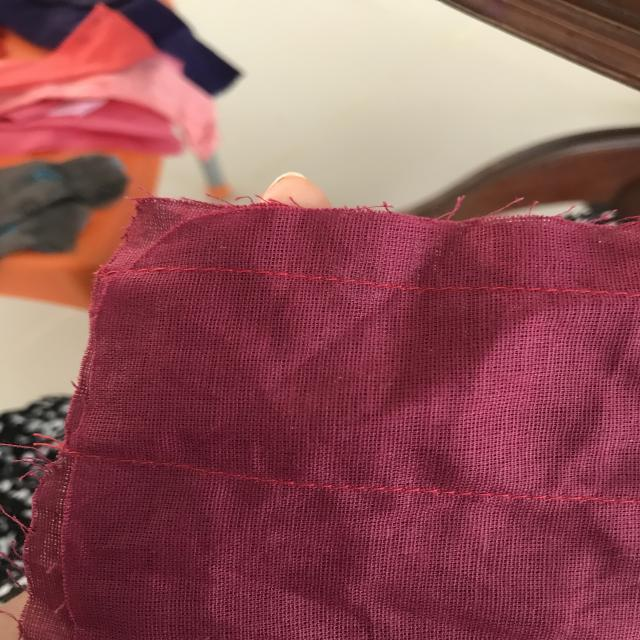good: (422, 272, 534, 298)
